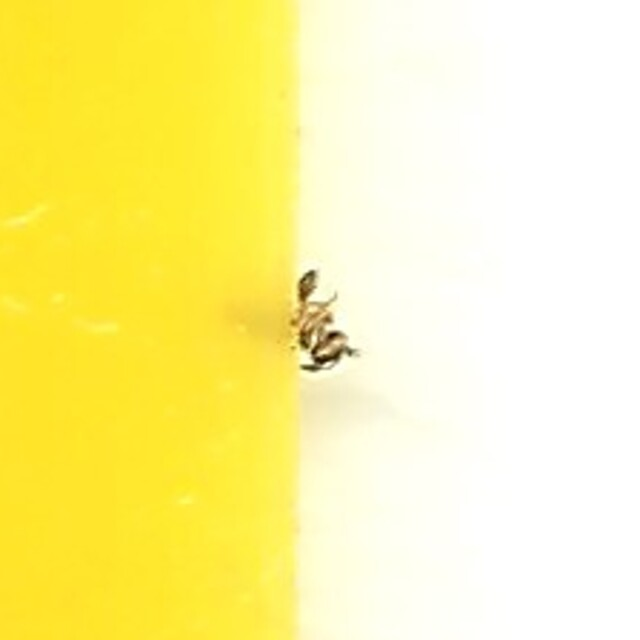Hymenoptera: (286, 262, 354, 378)
